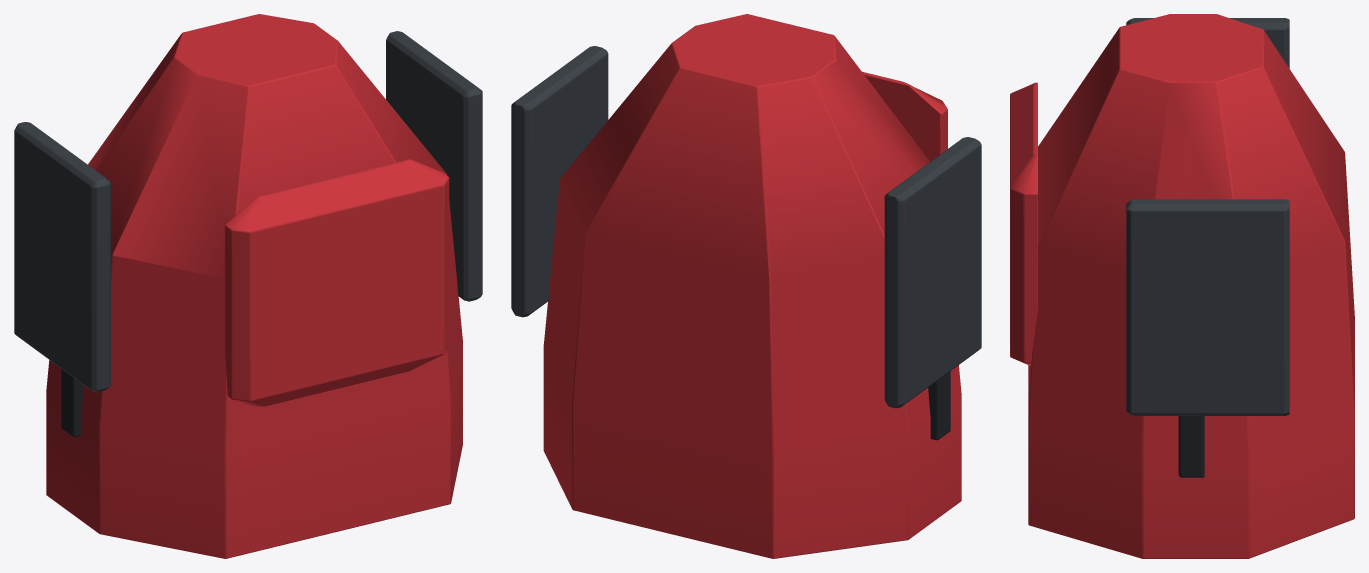
File: QuadBodyBack_Set01_Ironclad.fbx
The picture shows the model from 3 angles, left to right: view 1: azimuth 30°, elevation 25°; view 2: azimuth 150°, elevation 25°; view 3: azimuth 270°, elevation 25°; orthographic projection.
Parts seen in each view (by area): view 1: QuadBodyBack_Set01_Ironclad; view 2: QuadBodyBack_Set01_Ironclad; view 3: QuadBodyBack_Set01_Ironclad.
Boxes of the visible parts, box(x1,y1,x2,y2) form: QuadBodyBack_Set01_Ironclad: box(14, 14, 482, 558); QuadBodyBack_Set01_Ironclad: box(511, 14, 981, 558); QuadBodyBack_Set01_Ironclad: box(1010, 14, 1354, 558).
Bounding box in the file's own units: 0.97 × 1 × 0.739.
